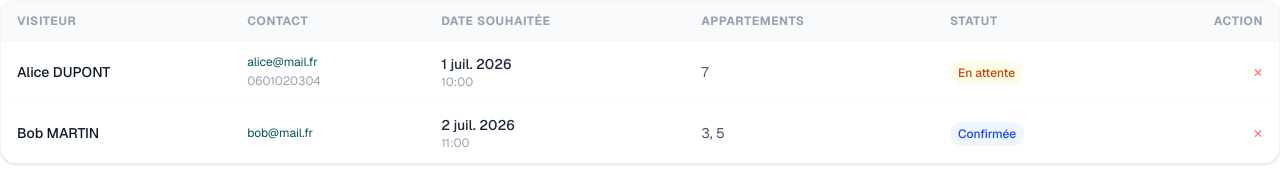
VisitsTable — suppression › supprime la visite de la liste après confirmation et succès
The width and height of the screenshot is (1280, 182).
Click the button titled "Supprimer la visite" in the row of "DUPONT". click: (1258, 73)
box: [1253,65,1263,81]
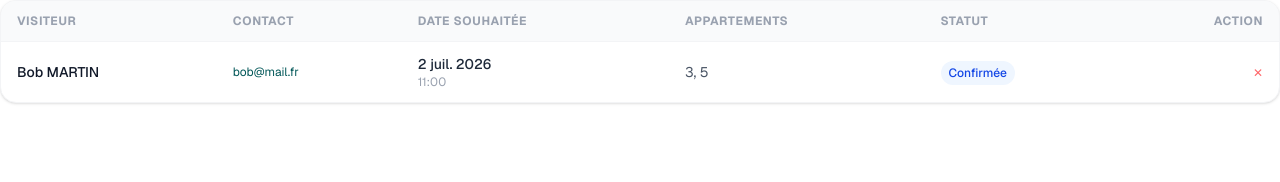
Expected: the text "Bob MARTIN" is shown, [1,42,217,102]
Expected: the text "Alice DUPONT" is gone
